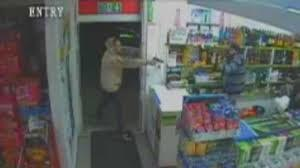weapon: (149, 54, 165, 68)
